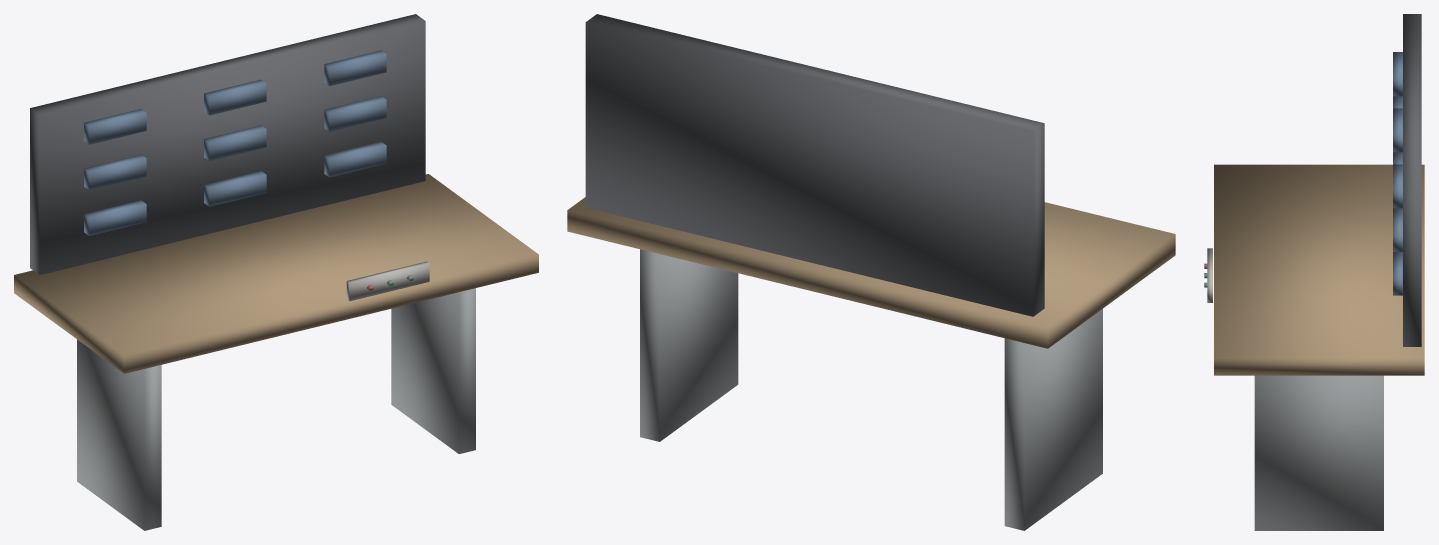
File: electronics_repair_bench__squat.glb
The picture shows the model from 3 angles, left to right: view 1: azimuth 30°, elevation 25°; view 2: azimuth 150°, elevation 25°; view 3: azimuth 270°, elevation 25°; orthographic projection. The views are drawn at different scales.
Visible parts, largest first — view 1: world; view 2: world; view 3: world.
Part boxes in pixels (box(x1,y1,x2,y2)): world: box(14, 14, 538, 530); world: box(567, 14, 1175, 530); world: box(1204, 14, 1424, 530).
Size of the model in its own units: 1.6 by 1.34 by 0.7679.
